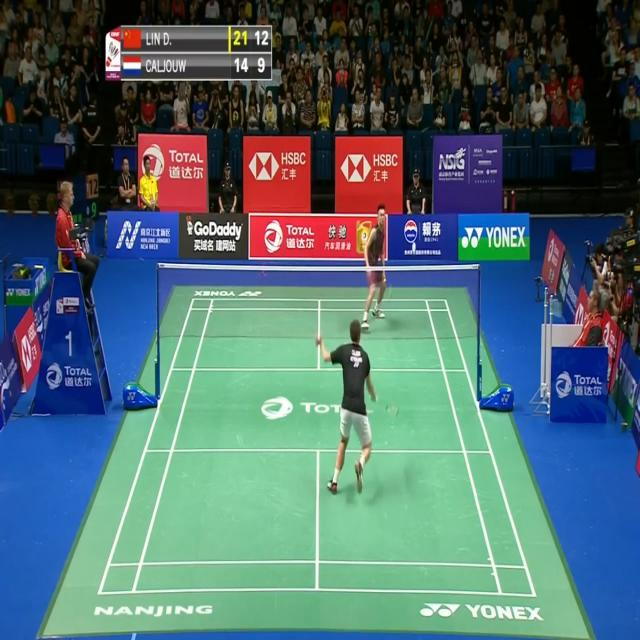Player1: (314, 314, 380, 498)
Player2: (356, 195, 394, 338)
